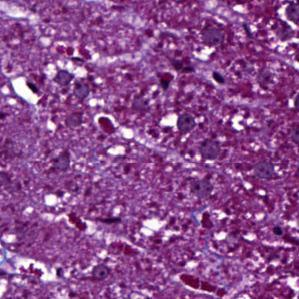inflammation: (37, 61, 88, 95), (189, 38, 222, 65), (90, 111, 124, 137), (163, 111, 196, 134)
